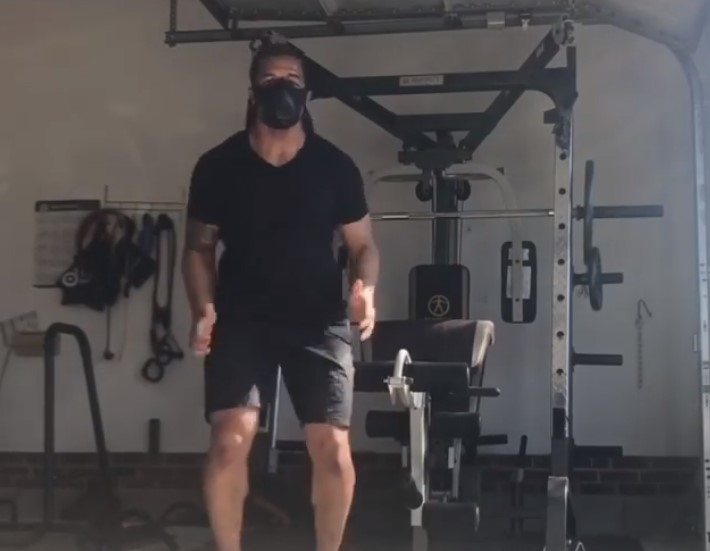face_with_mask: (245, 41, 315, 136)
